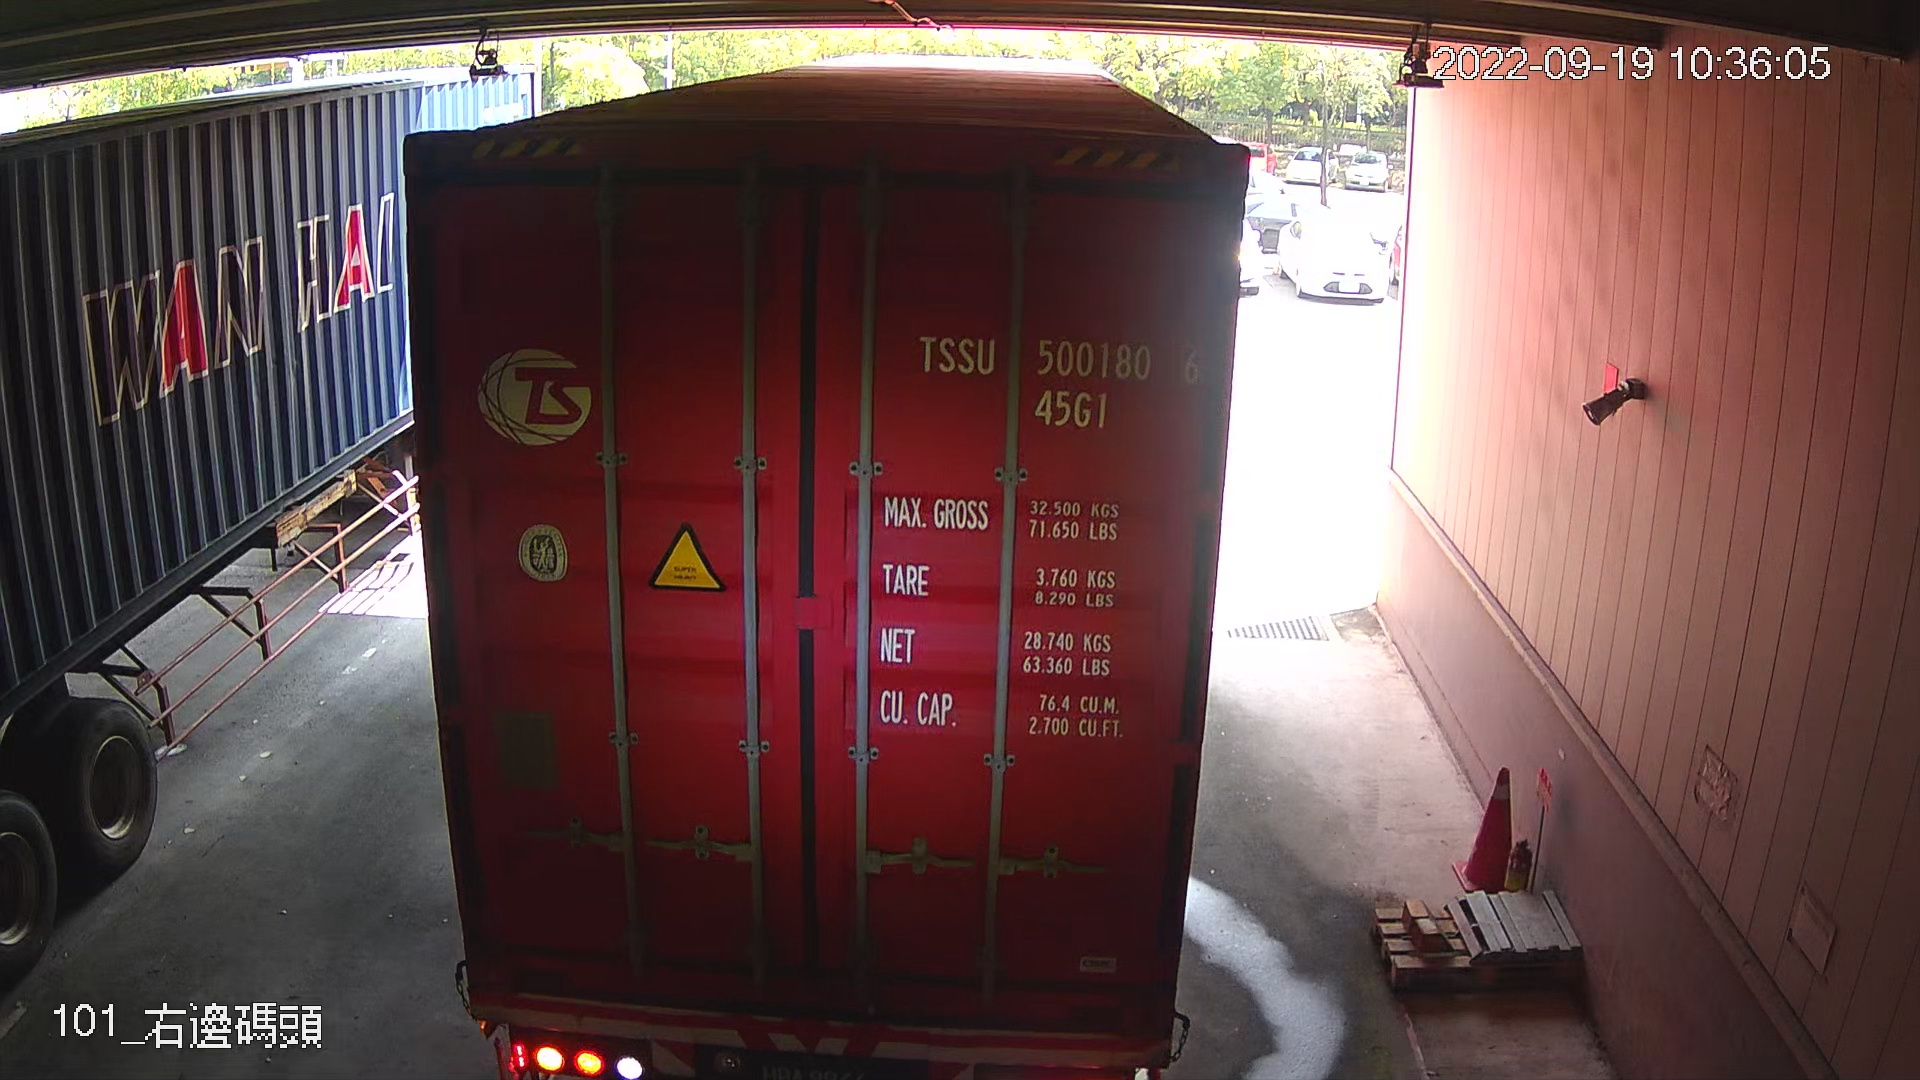container: (909, 245, 1162, 349)
